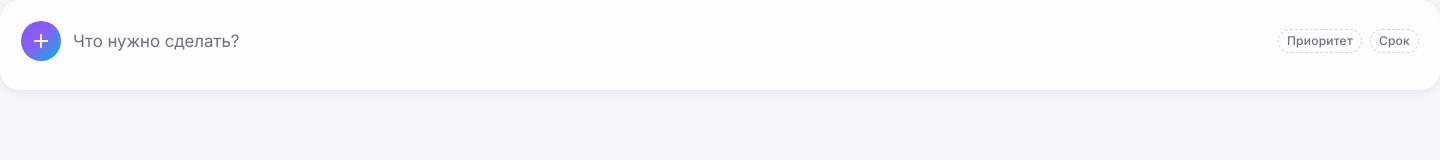
Composer › still shows a focus indicator on desktop when the field is focused and in error (acceptance criterion 24)
Click the text box named "Текст новой задачи" at (669, 41), box top-left (73, 28), bottom-right (1266, 54)
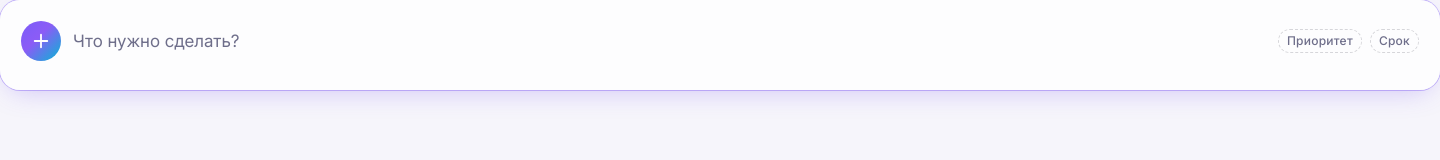
Press Enter
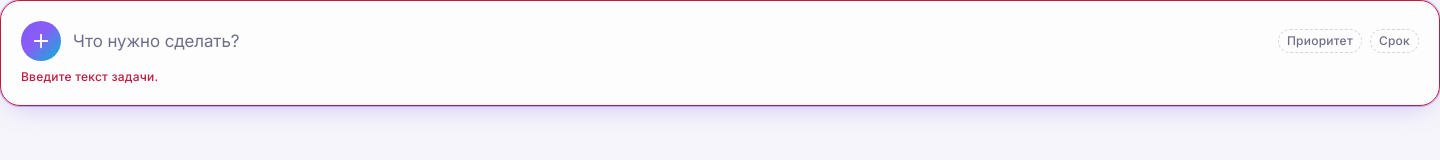
Result: the message reads "Введите текст задачи." at top-left (21, 69), bottom-right (158, 84)
